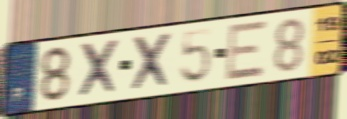5: (177, 26, 213, 86)
8: (38, 43, 75, 106), (271, 15, 308, 75)
E: (223, 18, 269, 83)
X: (76, 36, 122, 100), (129, 30, 174, 94)
